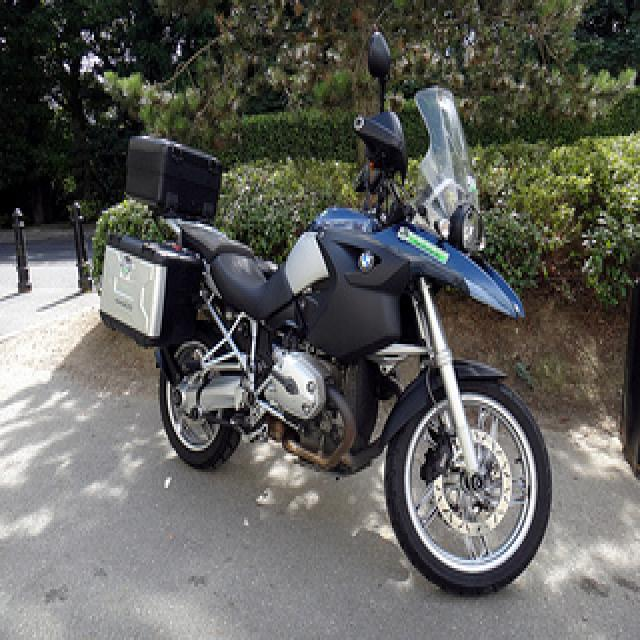motor: (157, 32, 554, 588)
